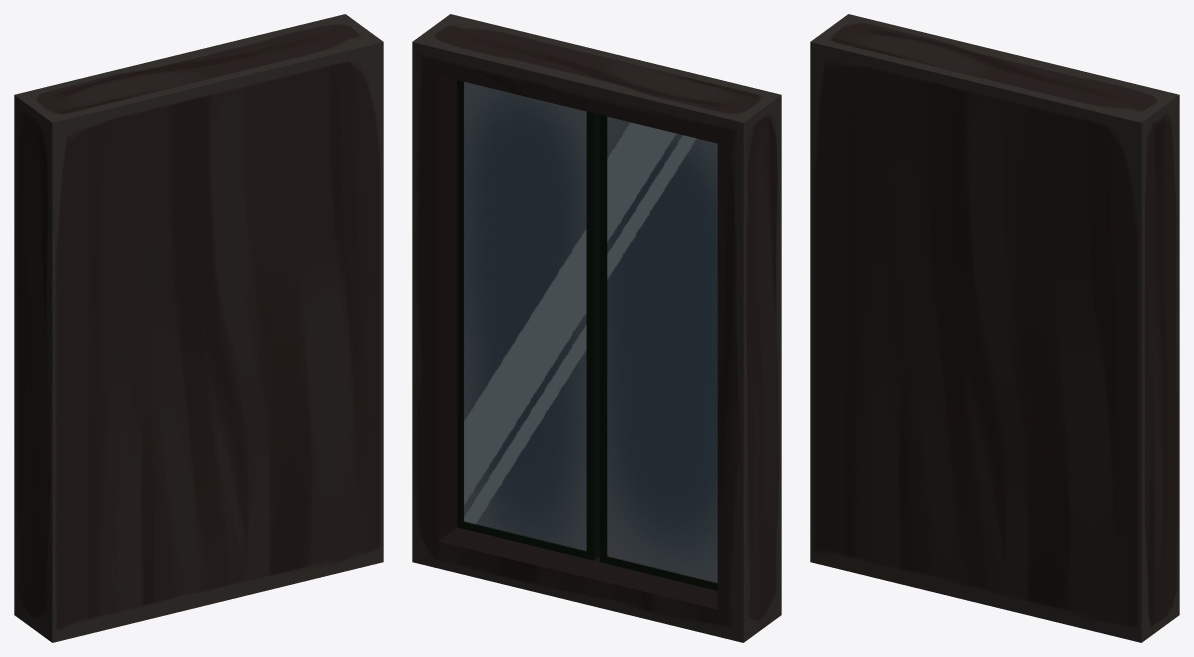
The model's file is window01.fbx.
The picture shows the model from 3 angles, left to right: view 1: azimuth 30°, elevation 25°; view 2: azimuth 150°, elevation 25°; view 3: azimuth 330°, elevation 25°; orthographic projection.
Visible parts, largest first — view 1: window01; view 2: window01; view 3: window01.
Boxes of the visible parts, x1=… form: window01: x1=14, y1=14, x2=383, y2=642; window01: x1=412, y1=14, x2=781, y2=642; window01: x1=810, y1=14, x2=1179, y2=642.
Bounding box in the file's own units: 100 × 150 × 20.
